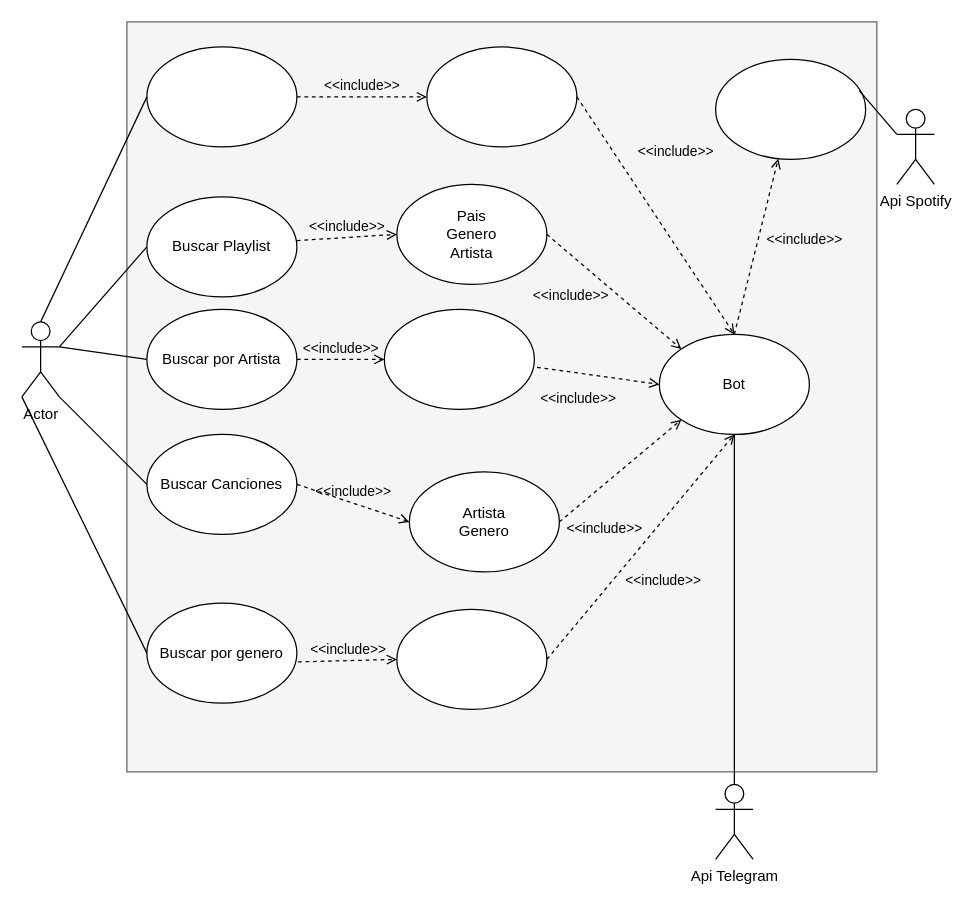
Some shapes in this 973 by 908 pixel diagram are drawn without their labels. Here are the shapes that lost their labels. From the top down, the centre of each, then its label:
the point at 221,96: Buscar por país
the point at 501,96: Artista Canciones
the point at 790,108: Autenticar
the point at 458,358: Canciones Playlist
the point at 471,658: Canciones Artistas Playlist
